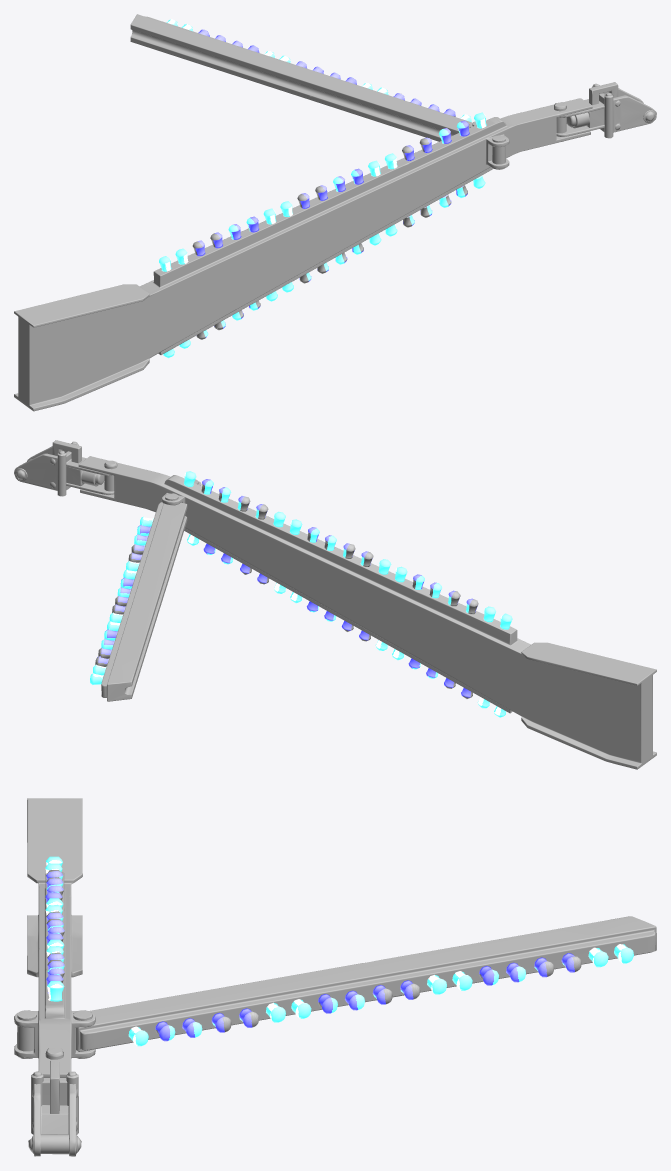
The model's file is SM_BalloonRide_Metalhandles_01a.fbx.
3 views of the same model, one above another, from view 1: azimuth 30°, elevation 25°; view 2: azimuth 150°, elevation 25°; view 3: azimuth 270°, elevation 25° (orthographic). The views are drawn at different scales.
Parts seen in each view (by area): view 1: SM_BalloonRide_Metalhandles_01a_LOD0; view 2: SM_BalloonRide_Metalhandles_01a_LOD0; view 3: SM_BalloonRide_Metalhandles_01a_LOD0.
Part boxes in pixels (box(x1,y1,x2,y2)): SM_BalloonRide_Metalhandles_01a_LOD0: box(14, 14, 656, 411); SM_BalloonRide_Metalhandles_01a_LOD0: box(14, 440, 656, 769); SM_BalloonRide_Metalhandles_01a_LOD0: box(14, 798, 656, 1156).
Size of the model in its own units: 655 by 413 by 179.
